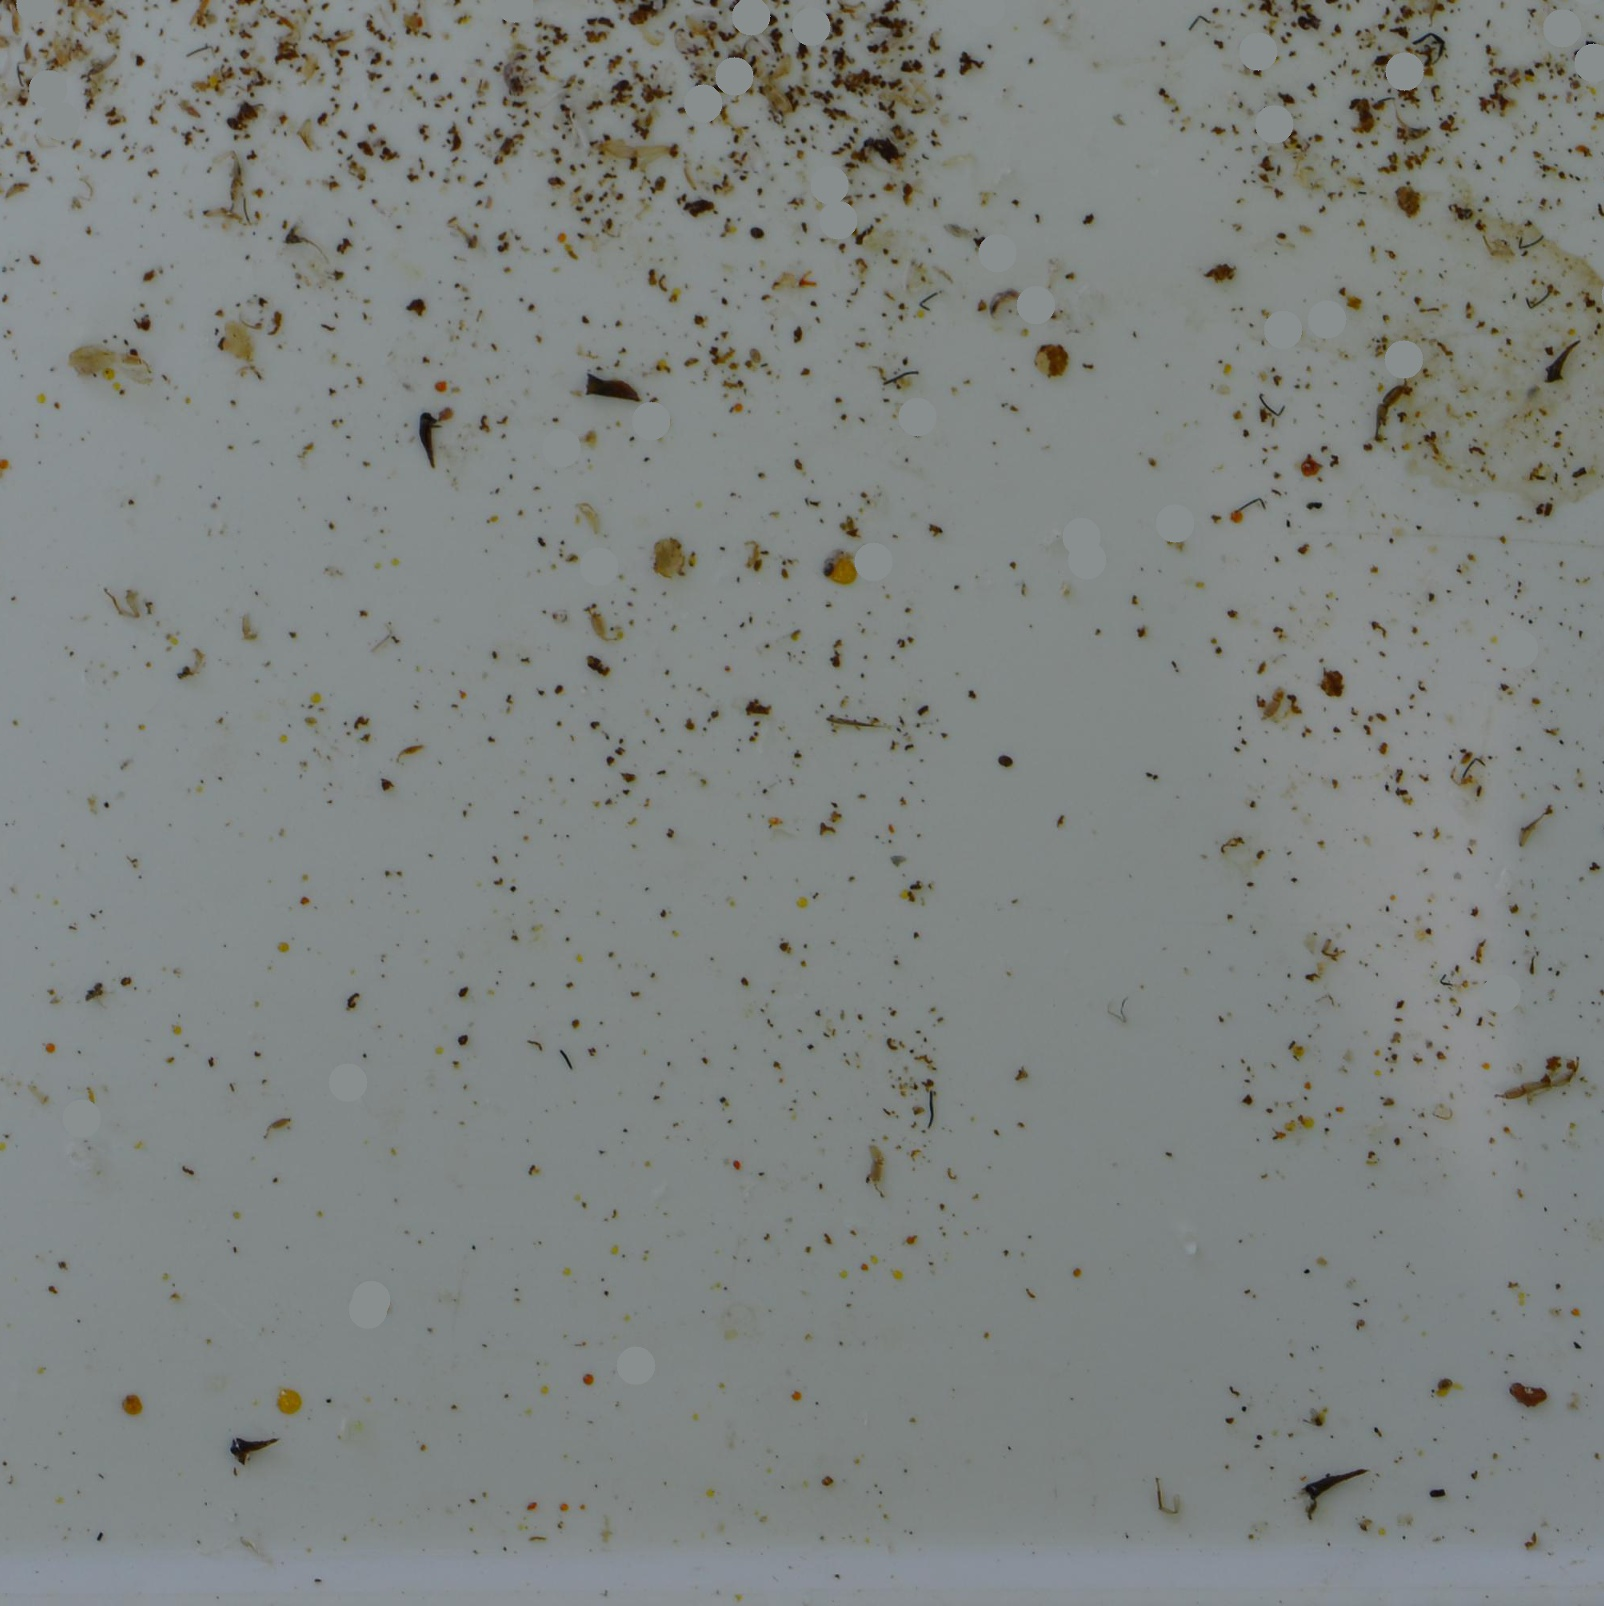Varroa: (997, 754, 1015, 771), (751, 226, 767, 244)
